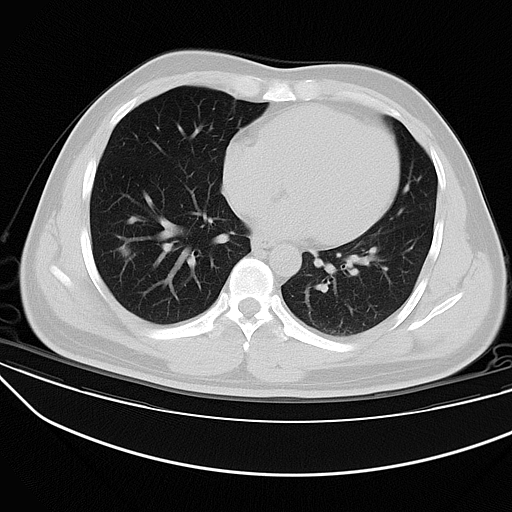nodule: (117, 244, 131, 257)
